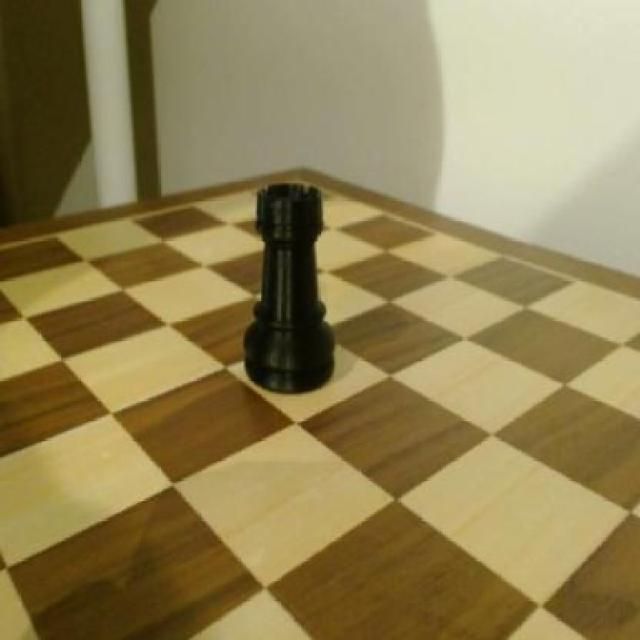black-queen: (243, 177, 339, 396)
